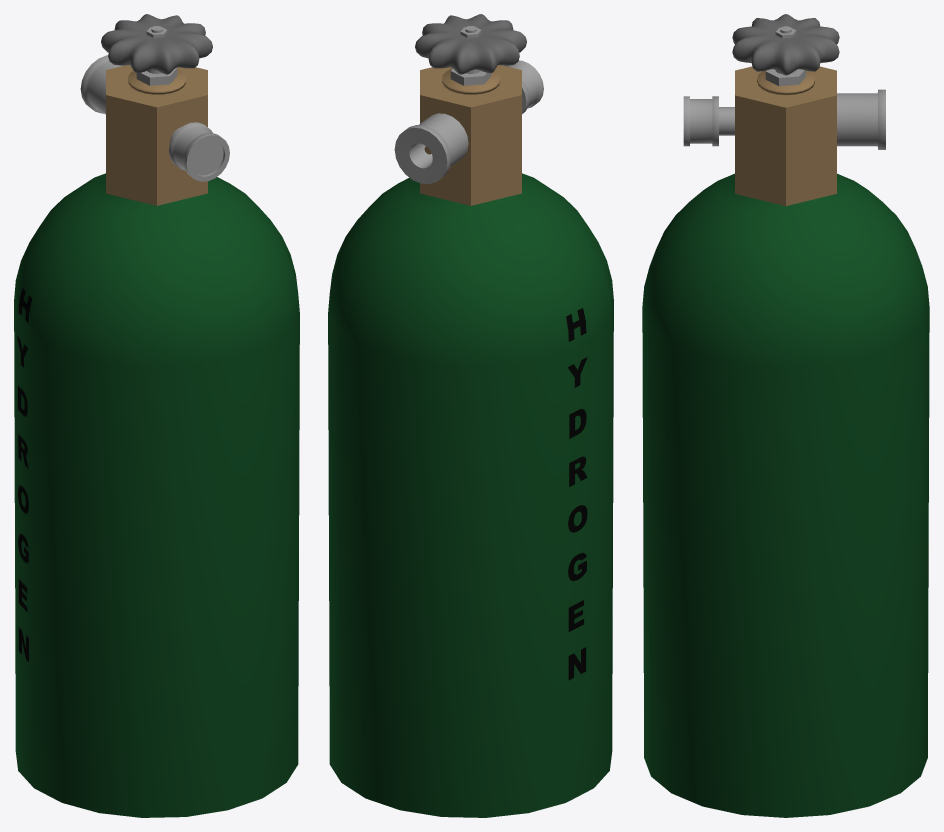
Rendered from HydrogenCanisterFBX.fbx.
3 renders of one model, left to right at view 1: azimuth 30°, elevation 25°; view 2: azimuth 150°, elevation 25°; view 3: azimuth 270°, elevation 25°, orthographic.
Parts seen in each view (by area): view 1: polySurface19; view 2: polySurface19; view 3: polySurface19.
Boxes of the visible parts, <box> form: polySurface19: <box>14,14,299,817</box>; polySurface19: <box>328,14,613,817</box>; polySurface19: <box>642,14,929,817</box>.
Size of the model in its own units: 3 by 8.41 by 3.
